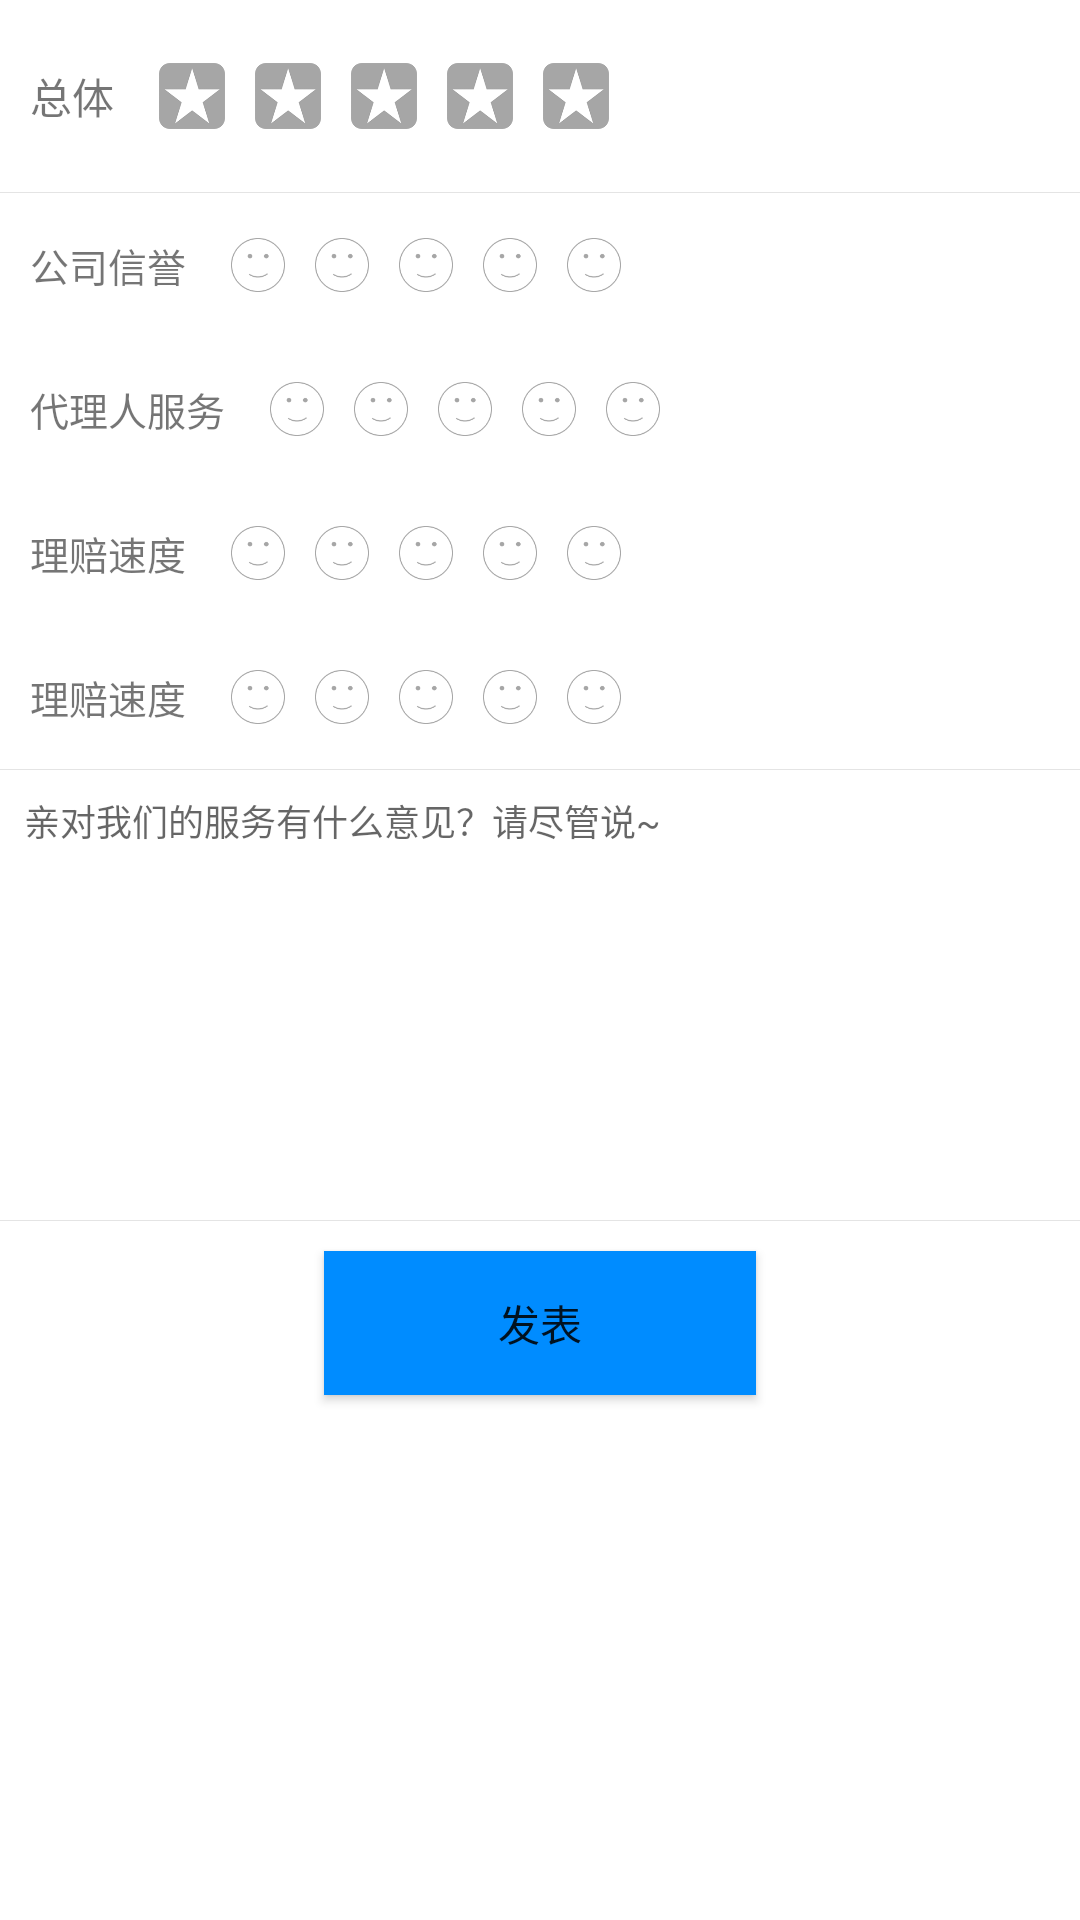

Named icons in this screenshot (1080*1920) and their centers, (x,y):
star: (192,96), (288,96), (384,96), (480,96), (576,96)
